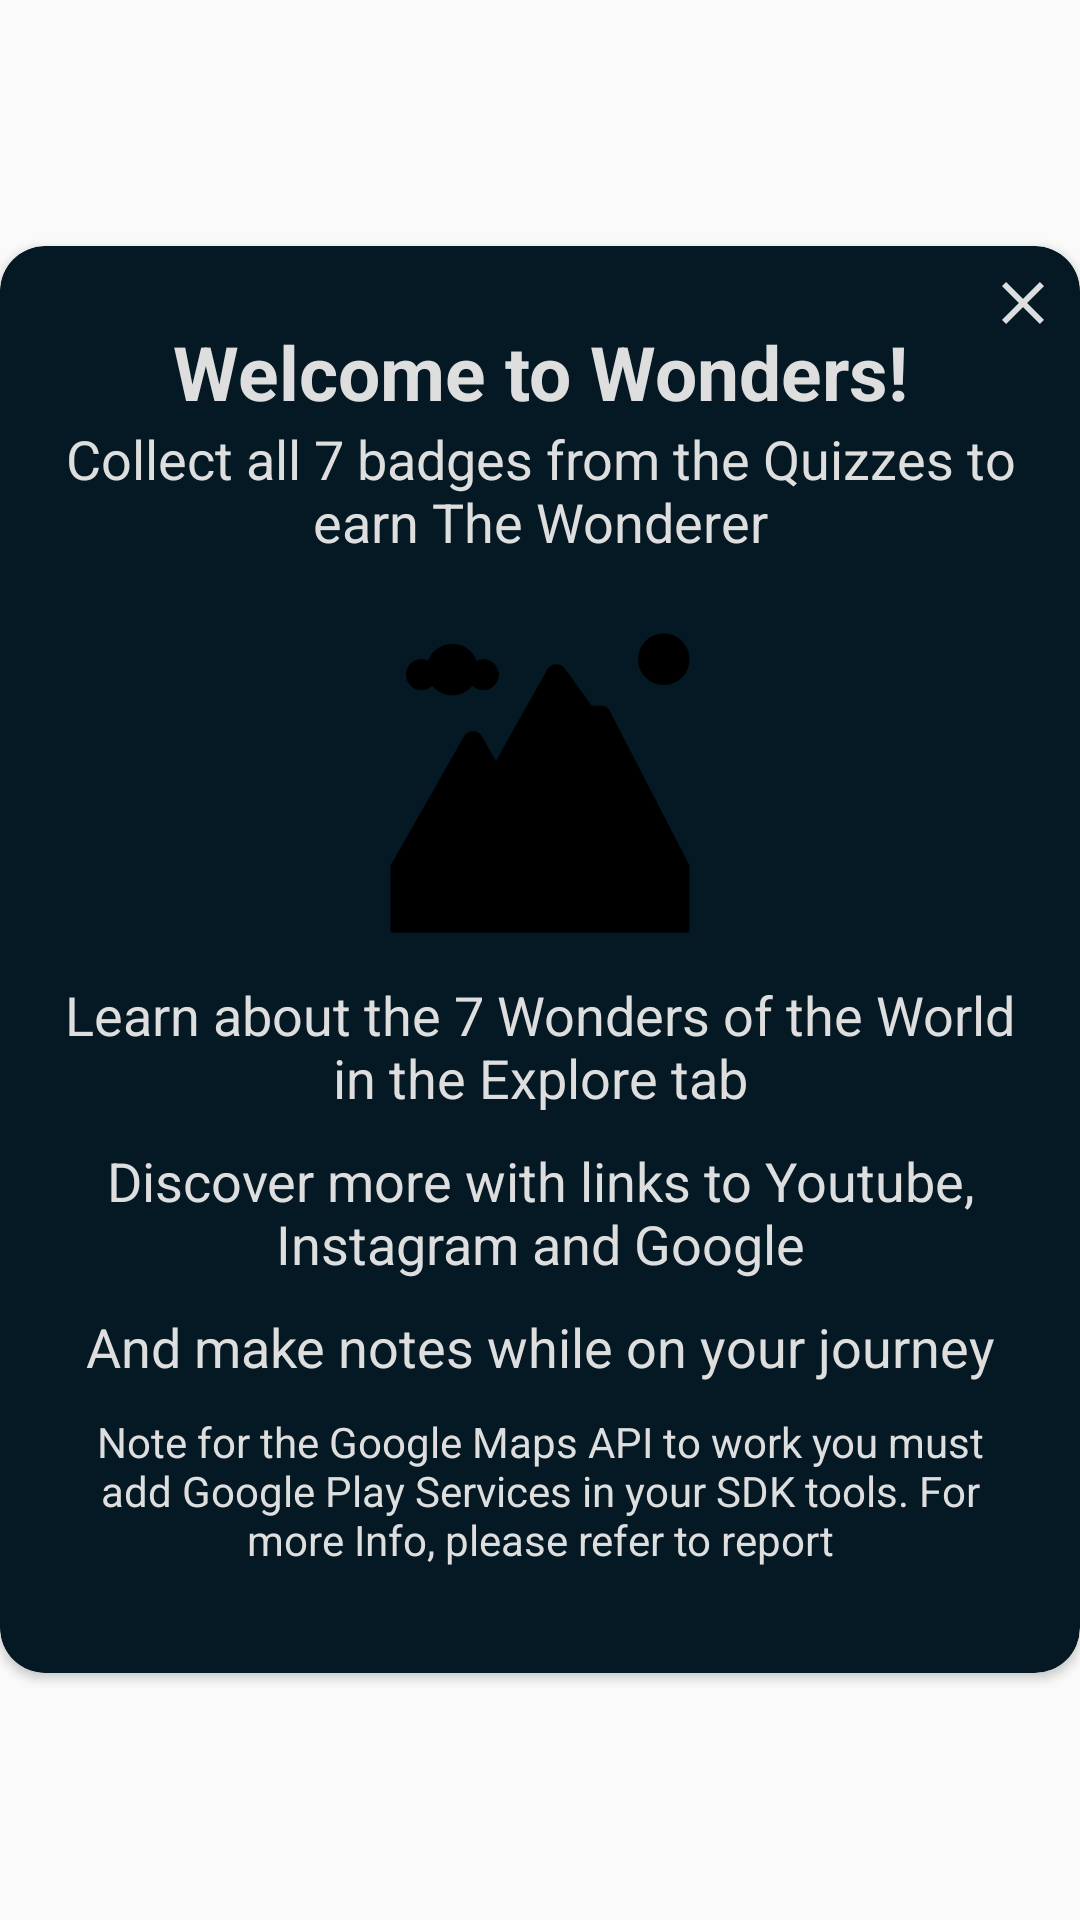

Icon bounding boxes for this 1080 × 1920 phone screenshot, format (x1, y1, x2, y2):
close: (1002, 282, 1044, 324)
